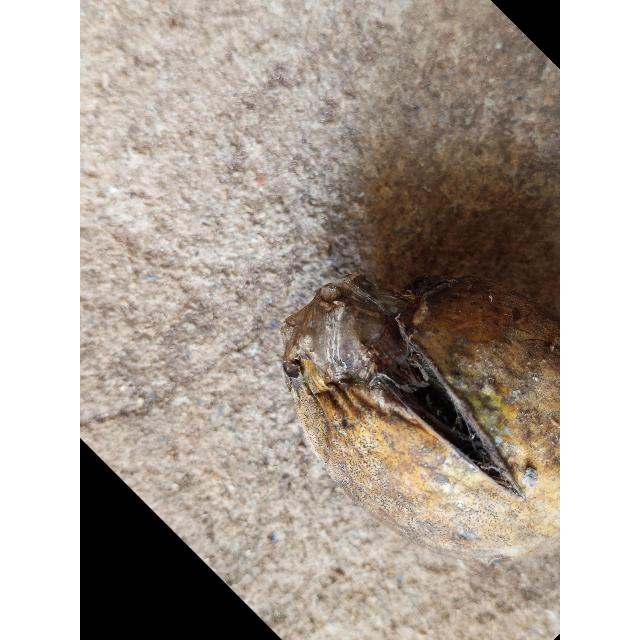damaged: (282, 278, 560, 559)
